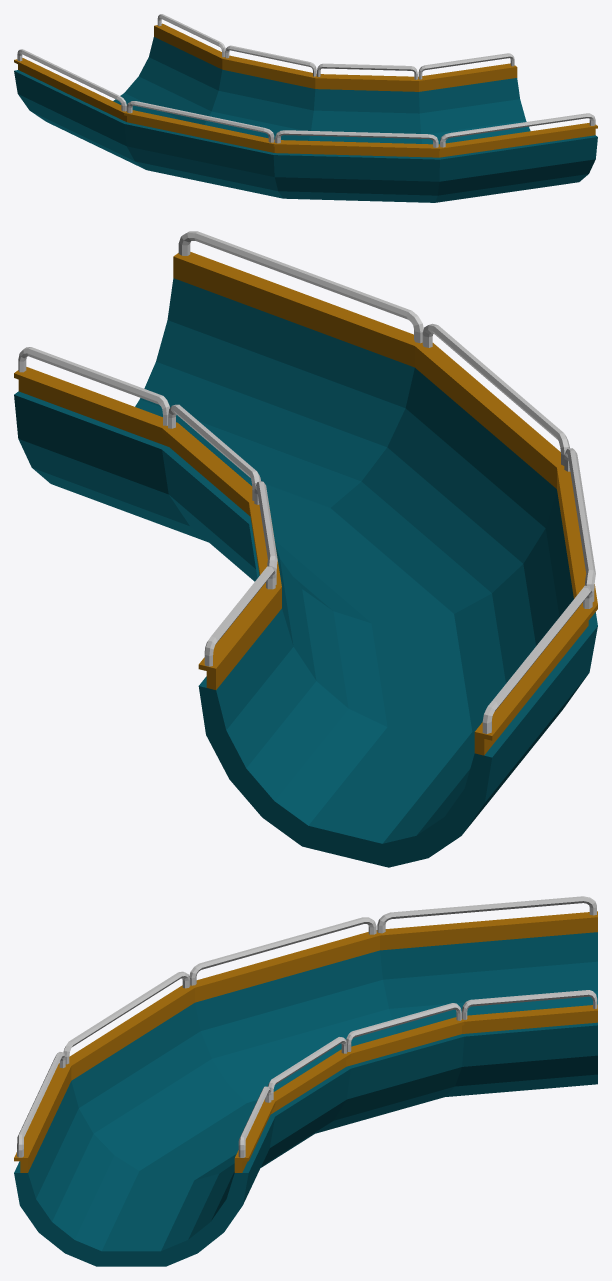
File: halfpipe-curveLeft-90_m.FBX
3 renders of one model, top to bottom at view 1: azimuth 30°, elevation 25°; view 2: azimuth 150°, elevation 25°; view 3: azimuth 270°, elevation 25°, orthographic. The views are drawn at different scales.
Visible parts, largest first — view 1: halfpipe-curveLeft-30_m, wall_r, wall_l; view 2: halfpipe-curveLeft-30_m, wall_r, wall_l; view 3: halfpipe-curveLeft-30_m, wall_r, wall_l.
Boxes of the visible parts, box(x1,y1,x2,y2) form: halfpipe-curveLeft-30_m: box(14, 37, 597, 202); wall_r: box(14, 49, 597, 157); wall_l: box(154, 14, 517, 91); halfpipe-curveLeft-30_m: box(14, 278, 597, 867); wall_r: box(173, 231, 597, 755); wall_l: box(14, 347, 281, 689); halfpipe-curveLeft-30_m: box(14, 932, 597, 1266); wall_r: box(14, 896, 597, 1172); wall_l: box(234, 990, 597, 1172).
Size of what is drawn, in the model's own units: 319 by 319 by 75.73.
